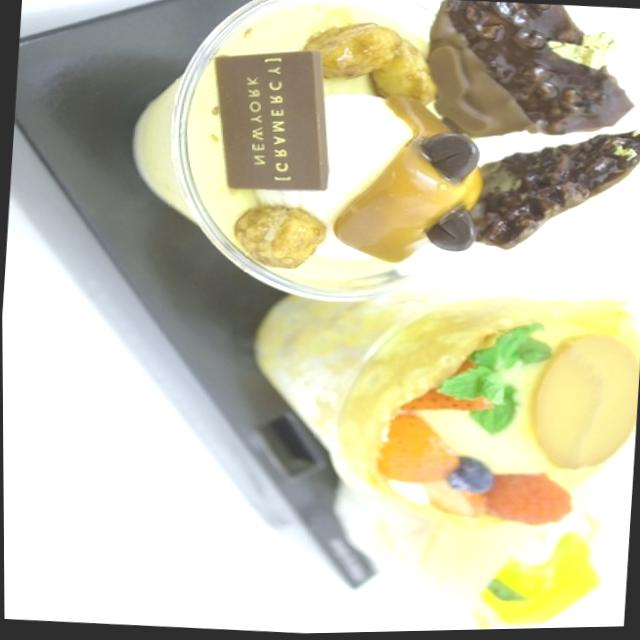蛋糕甜品: (294, 282, 640, 559)
